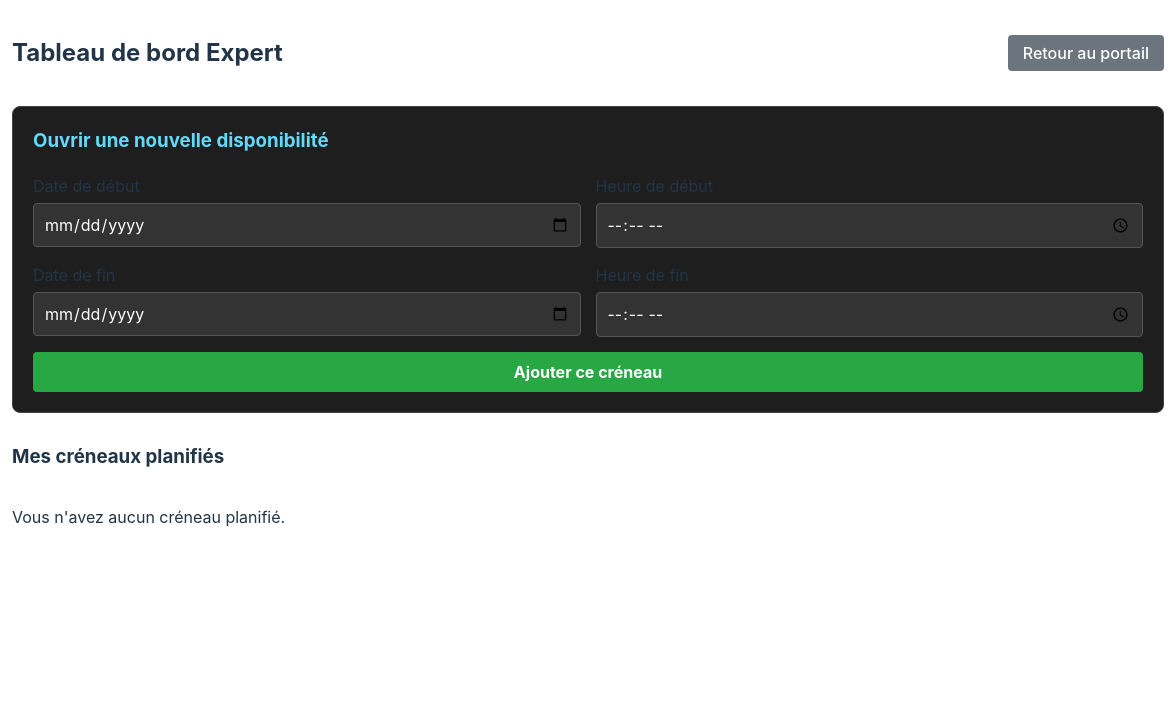
it: Composant ExpertDashboard › bloque la soumission si la date de fin est dans le passé par rapport au début
This screenshot has width=1176, height=720.
Expected: the heading "Tableau de bord Expert" is shown, [12, 40, 283, 66]
// On enveloppe les interactions utilisateur dans "act"
In the date field below "Date de début": (307, 225) [33, 203, 580, 247], type "2026-10-15"
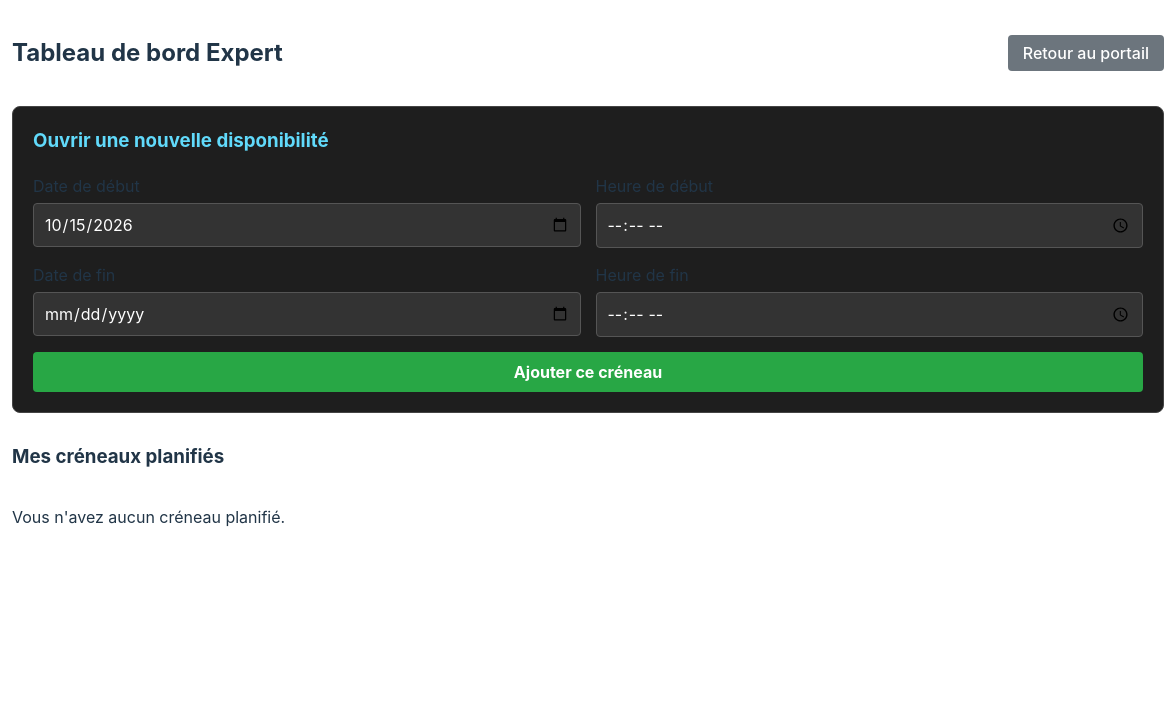
In the time field below "Heure de début": (869, 225) [596, 203, 1143, 248], type "08:00"
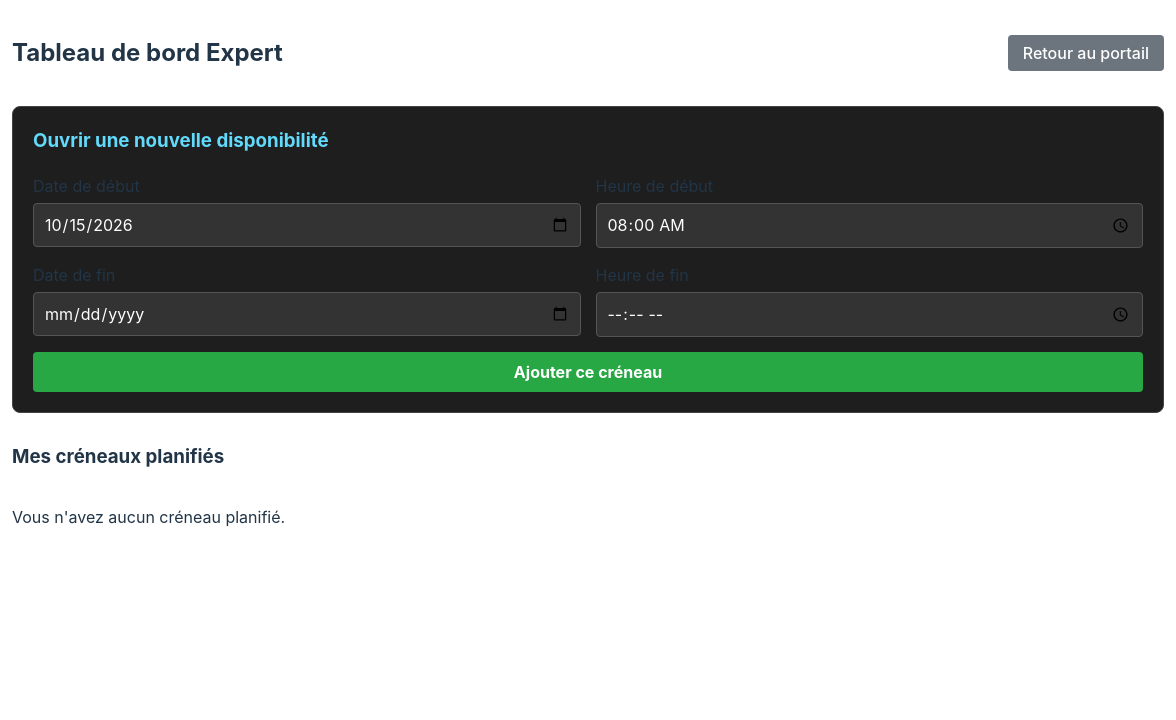
In the date field below "Date de fin": (307, 314) [33, 292, 580, 336], type "2026-10-10"
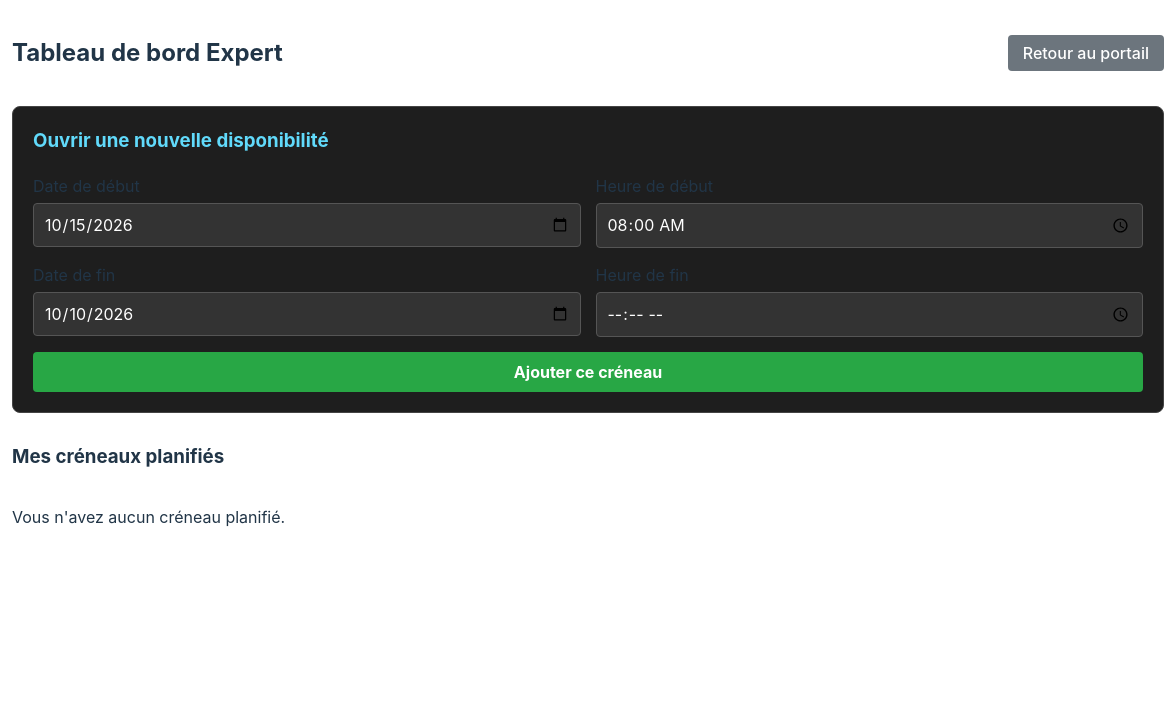
In the time field below "Heure de fin": (869, 314) [596, 292, 1143, 337], type "18:00"
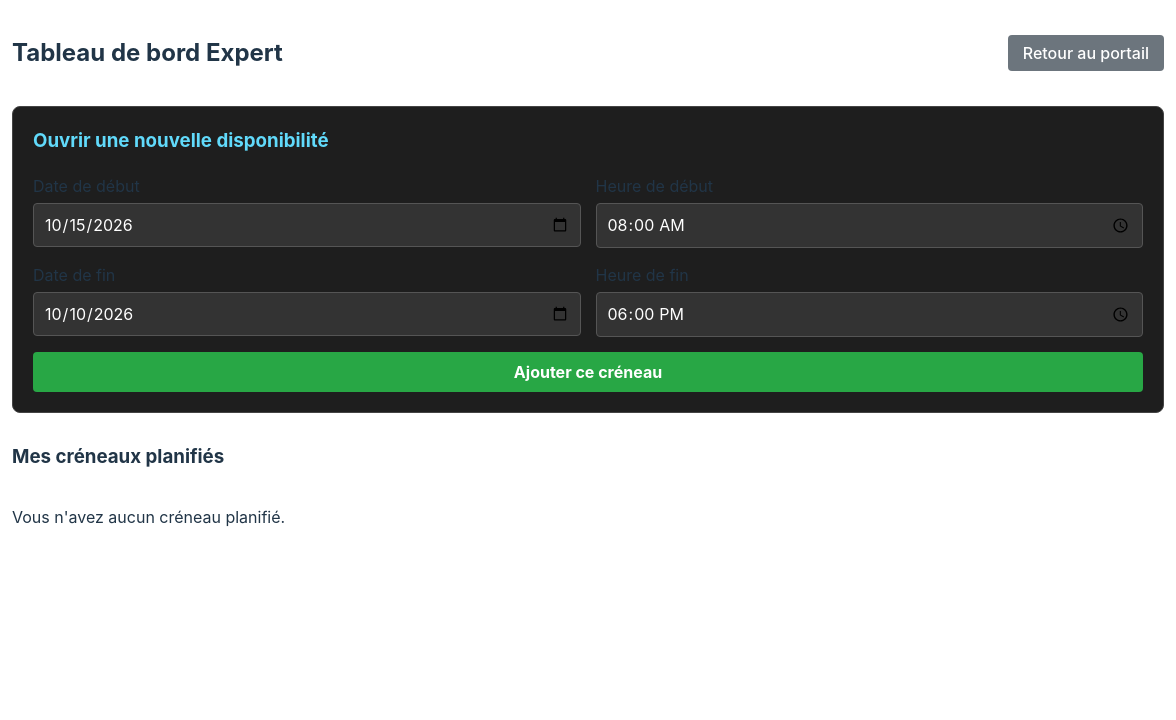
Click the button "Ajouter ce créneau": click(588, 372) [33, 352, 1143, 392]
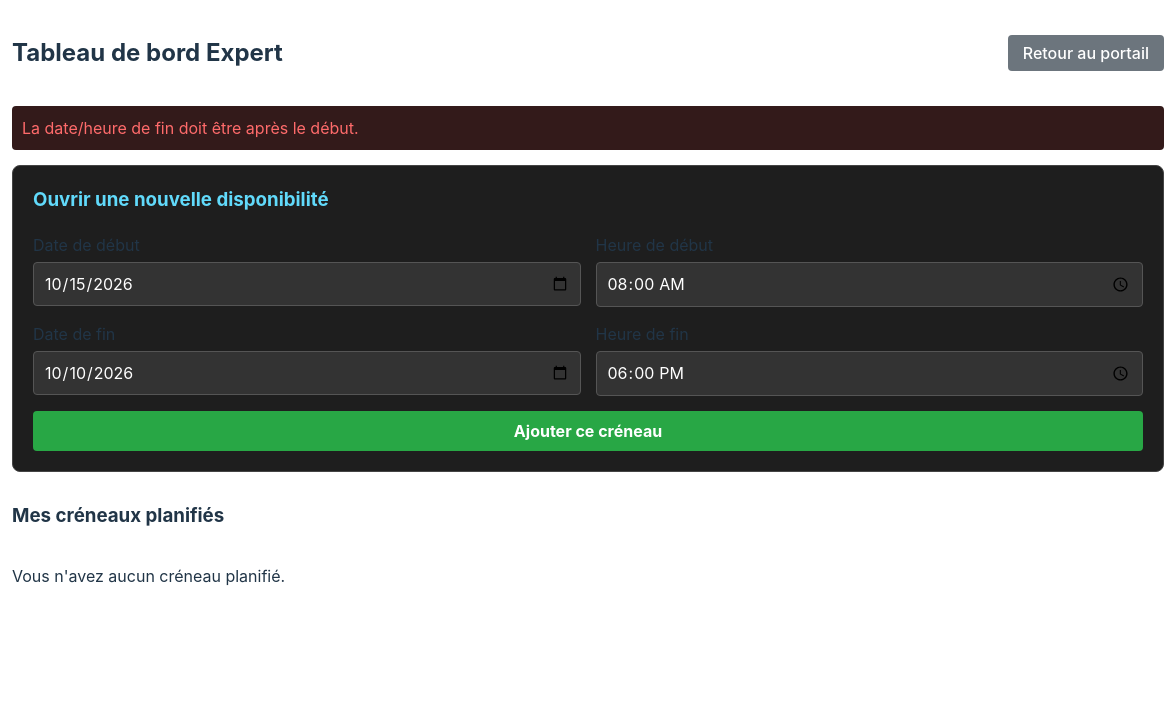
Expected: the text "La date/heure de fin doit être après le début." is shown, [12, 106, 1164, 150]
